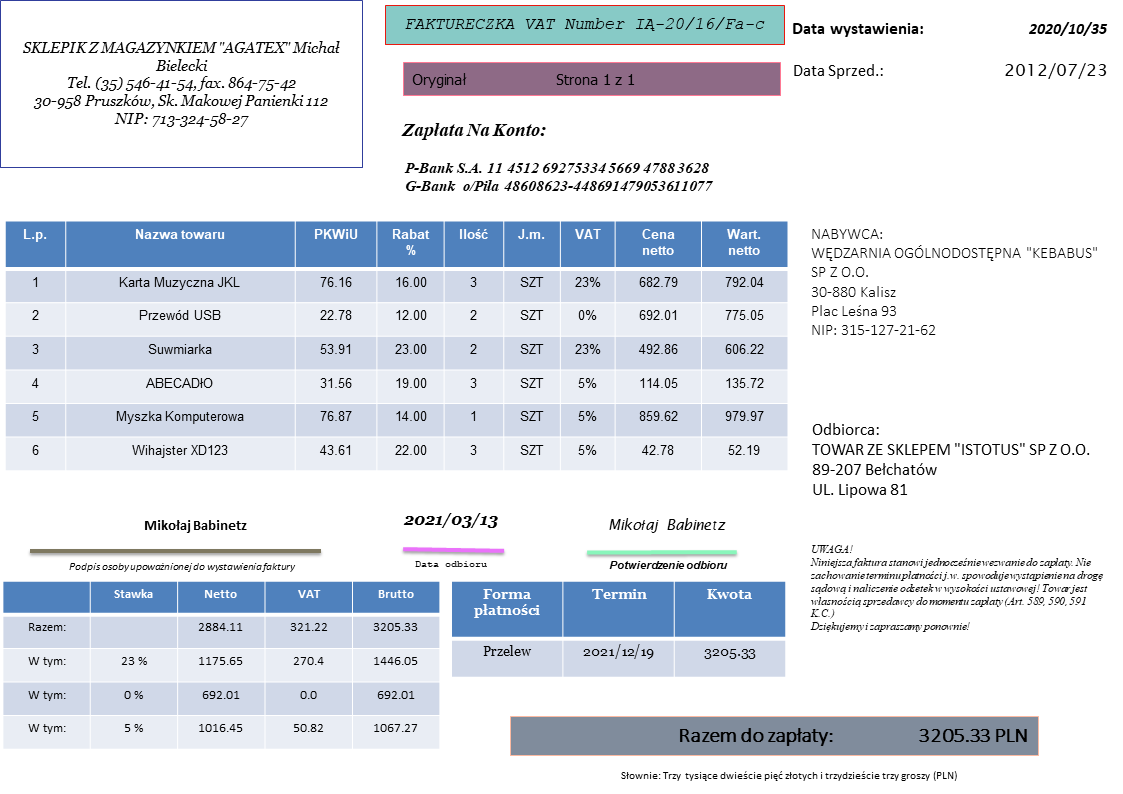Table: (4, 220, 789, 472), (2, 581, 440, 751), (450, 580, 786, 679)
TextBox: (807, 225, 1098, 340), (19, 37, 343, 131), (808, 540, 1106, 635), (810, 418, 1095, 502), (401, 159, 716, 196), (676, 723, 1031, 748), (401, 13, 767, 32), (619, 767, 959, 784), (409, 69, 637, 90), (66, 559, 298, 576), (398, 120, 548, 142), (790, 21, 925, 40), (1002, 60, 1111, 82), (606, 515, 728, 534), (401, 510, 500, 532), (607, 557, 730, 574), (790, 61, 886, 82), (142, 517, 247, 534), (1025, 19, 1108, 38), (412, 557, 489, 571)
